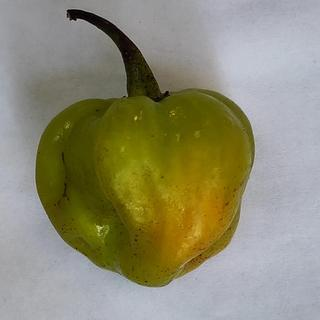Fly-bites: (93, 105, 102, 115), (132, 237, 140, 244), (160, 174, 166, 181), (137, 227, 144, 233), (143, 279, 150, 285)
striped: (54, 147, 78, 207)
